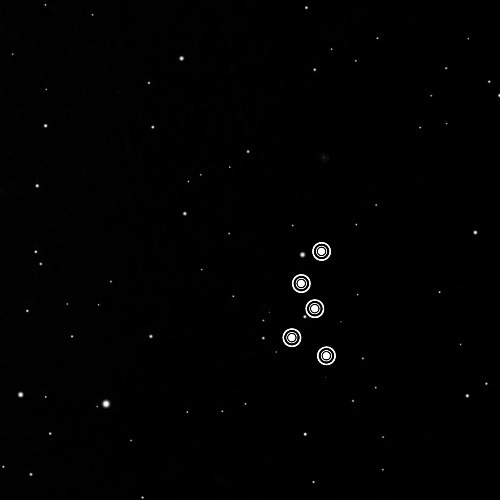cassiopeia: (274, 237, 344, 370)
